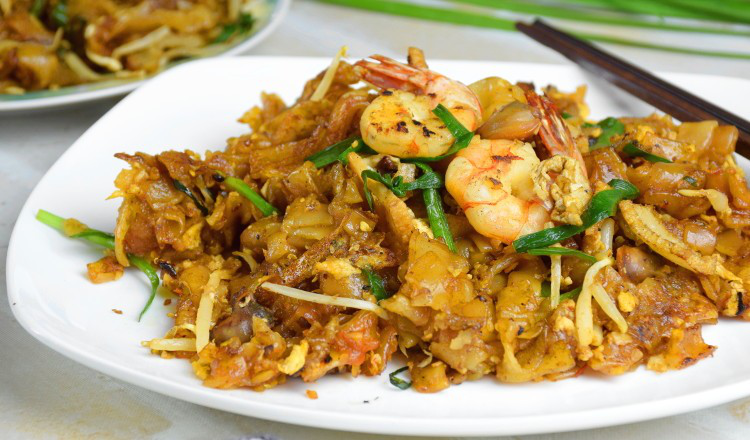Char Kway Teow: (108, 66, 743, 363)
